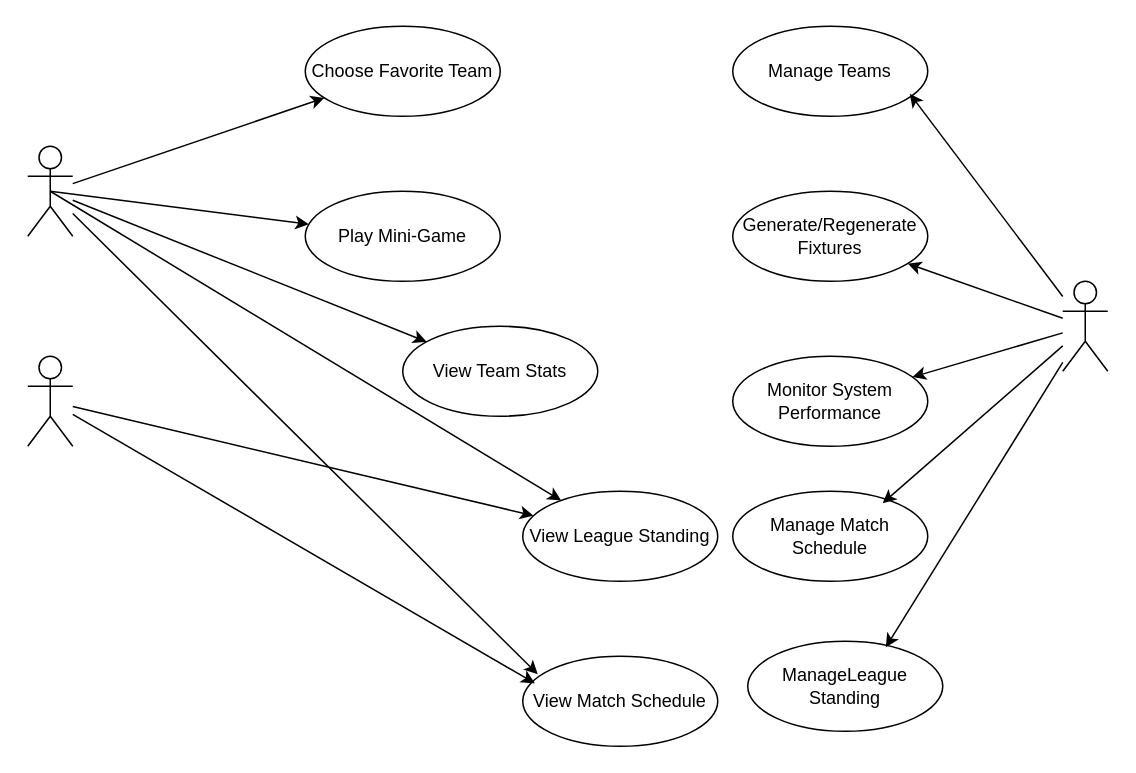
Image size: 1136x773. Some labels were removed from this diagram. The shapes that lost their labels are listed below. From the top down, each one's centre as x and y in pixels, then its label:
point (49, 190): User
point (1084, 325): Admin
point (49, 400): Guest
